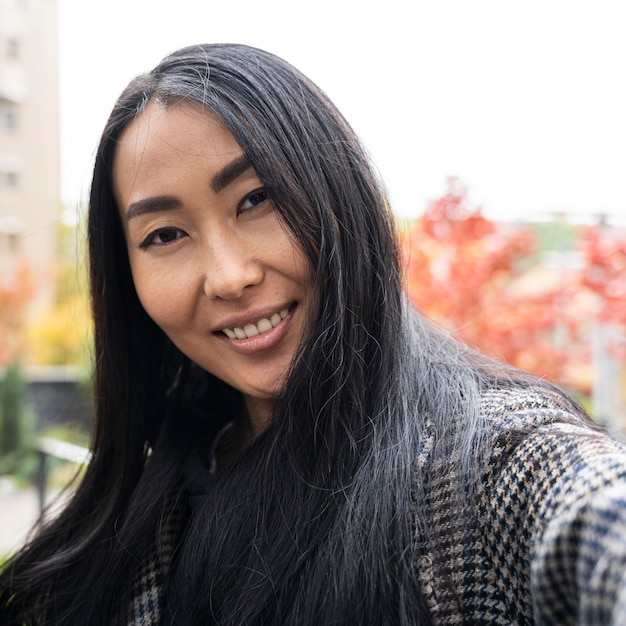teen: (82, 41, 382, 466)
